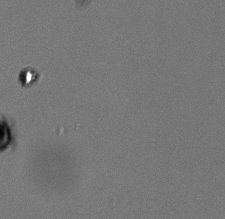Dead Cell: (1, 121, 11, 152)
Living Cell: (18, 67, 37, 85)
